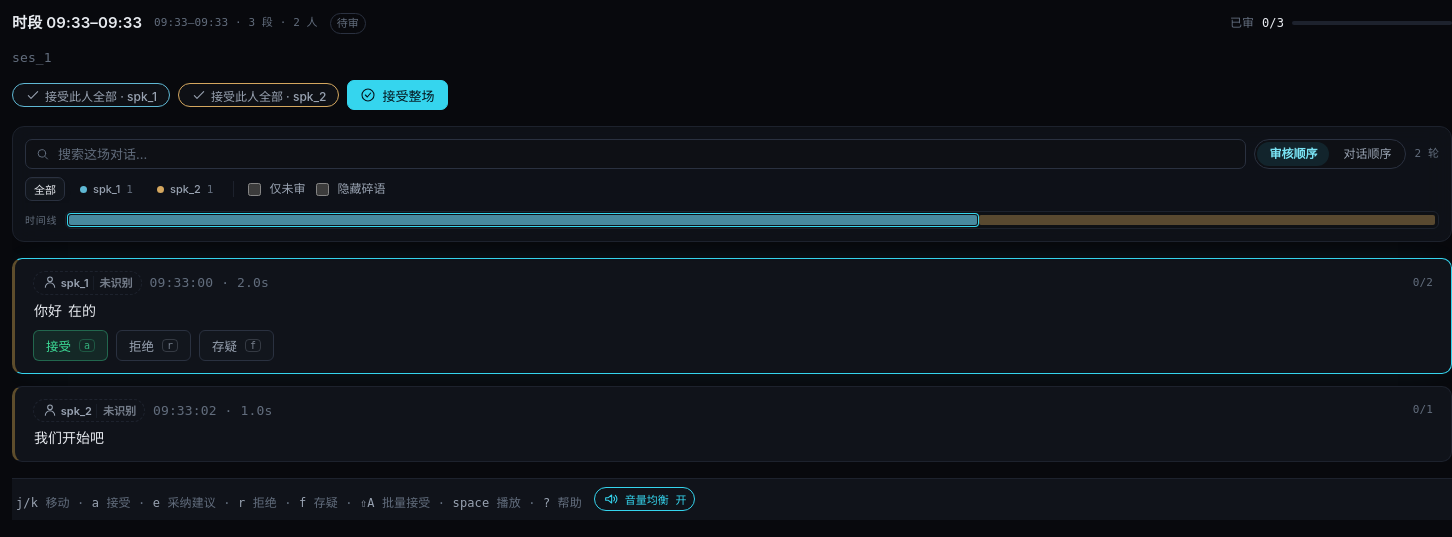
Test case: TranscriptReviewPanel › searches within the current conversation and highlights the matching text
This screenshot has width=1452, height=537.
In the search field named "搜索对话": (636, 154) [25,139,1246,169], type "开始"
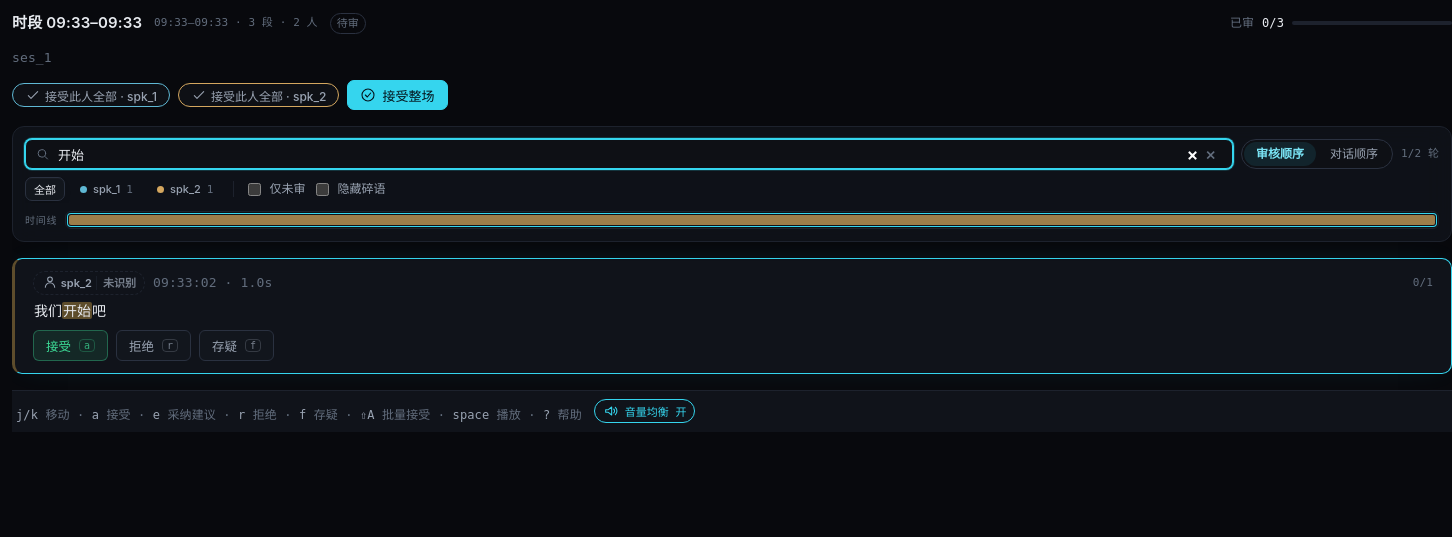
Check: the text "开始" is shown, box [62,302,92,318]
Check: the button "你好" is gone
Check: the text "1/2 轮" is shown, box [1401,146,1439,162]
